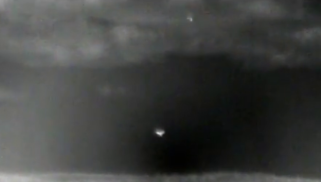Target: (156, 19, 192, 135)
